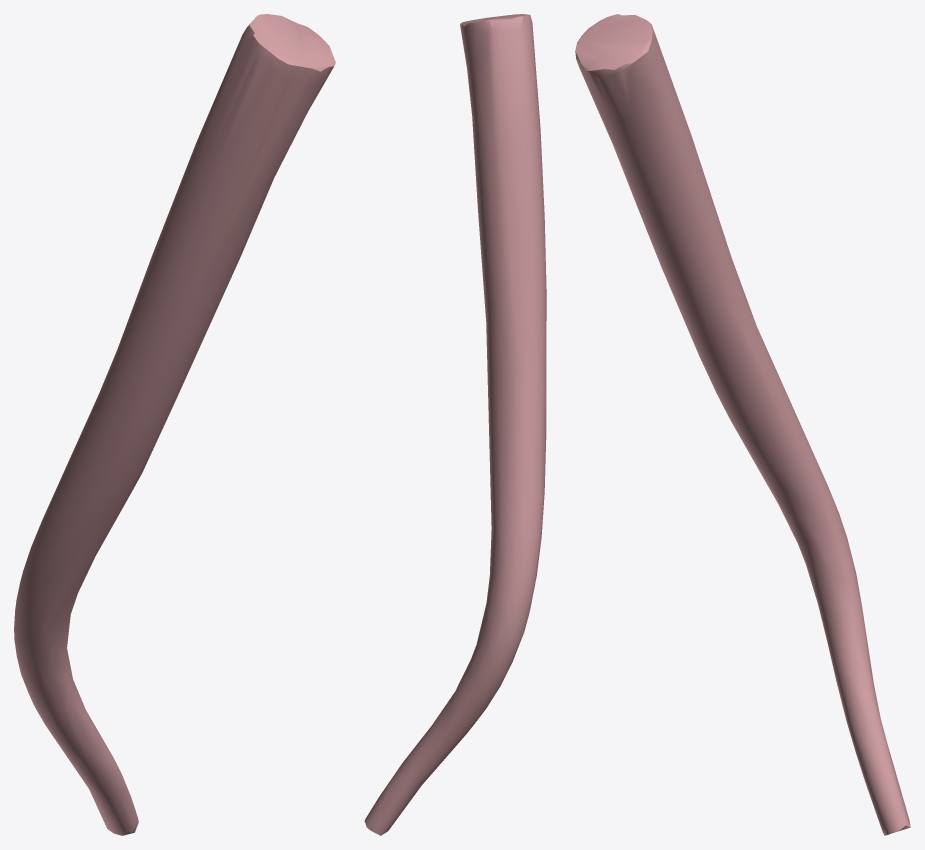
The model's file is fma68221_fj2457.glb.
The picture shows the model from 3 angles, left to right: view 1: azimuth 30°, elevation 25°; view 2: azimuth 150°, elevation 25°; view 3: azimuth 270°, elevation 25°; orthographic projection. The views are drawn at different scales.
Visible parts, largest first — view 1: FMA68221_FJ2457; view 2: FMA68221_FJ2457; view 3: FMA68221_FJ2457.
Boxes of the visible parts, left/top/right/bottom form: FMA68221_FJ2457: left=14, top=14, right=335, bottom=835; FMA68221_FJ2457: left=364, top=14, right=546, bottom=835; FMA68221_FJ2457: left=575, top=14, right=910, bottom=835.
Bounding box in the file's own units: 0.0203 × 0.0919 × 0.0344.
